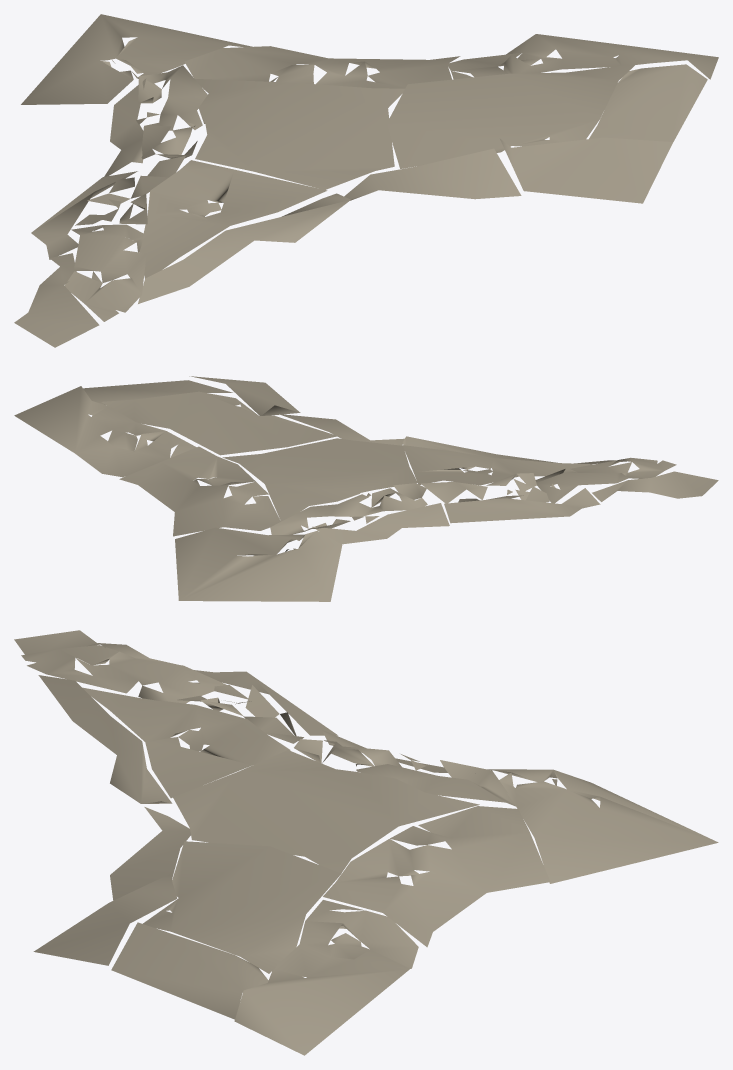
File: rock-coast-lod1.glb
3 views of the same model, one above another, from view 1: azimuth 30°, elevation 25°; view 2: azimuth 150°, elevation 25°; view 3: azimuth 270°, elevation 25° (orthographic). The views are drawn at different scales.
Visible parts, largest first — view 1: rock-coast.001; view 2: rock-coast.001; view 3: rock-coast.001.
Boxes of the visible parts, box(x1,y1,x2,y2) form: rock-coast.001: box(14, 14, 718, 347); rock-coast.001: box(14, 376, 718, 601); rock-coast.001: box(14, 630, 718, 1055).
Size of the model in its own units: 59.34 by 3.55 by 42.77.
